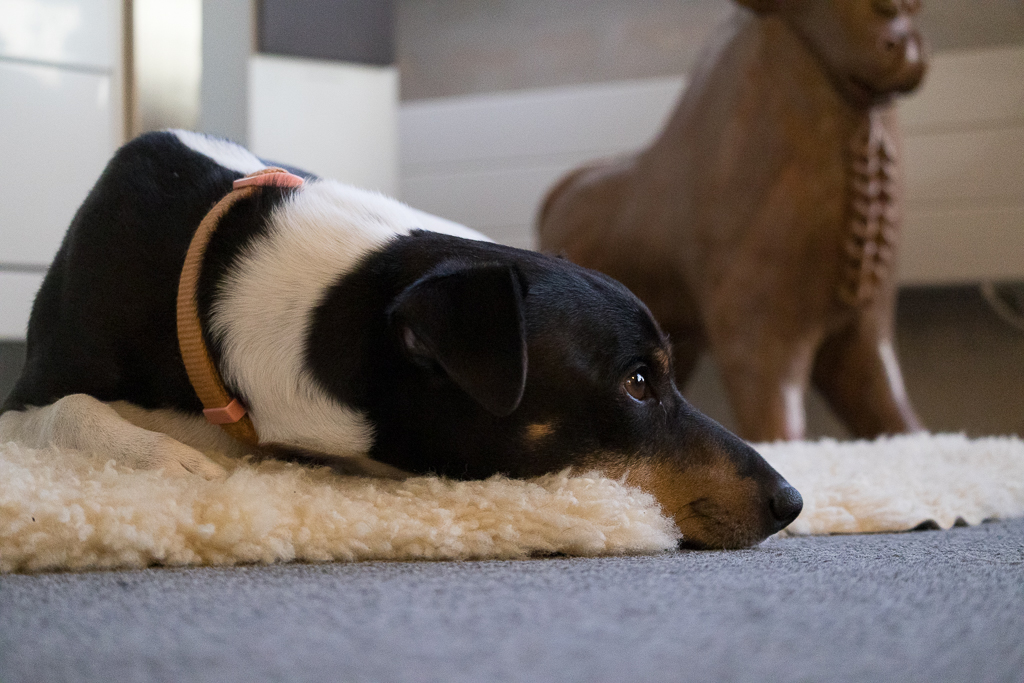Cattle: (524, 0, 941, 449)
Dog: (0, 120, 821, 556)
